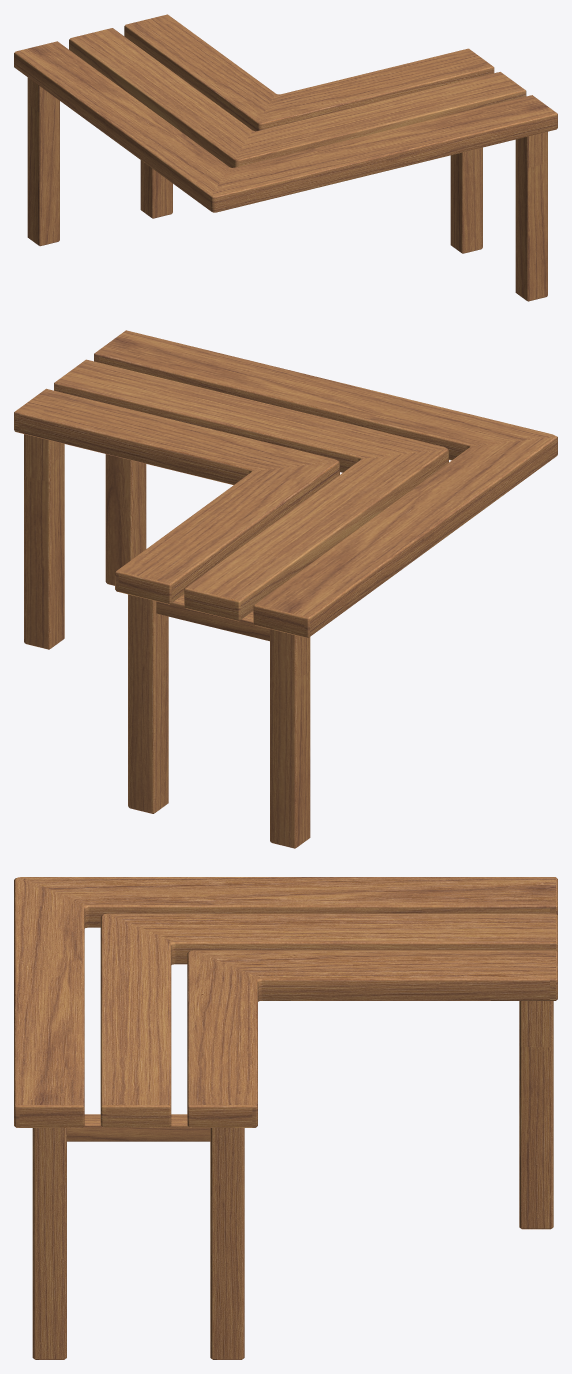
The model's file is SM_bench_04.fbx.
3 renders of one model, top to bottom at view 1: azimuth 30°, elevation 25°; view 2: azimuth 150°, elevation 25°; view 3: azimuth 270°, elevation 25°, orthographic. The views are drawn at different scales.
Visible parts, largest first — view 1: table008; view 2: table008; view 3: table008.
Boxes of the visible parts, box(x1,y1,x2,y2) form: table008: box(14, 14, 557, 301); table008: box(14, 330, 557, 848); table008: box(14, 877, 557, 1359).
Bounding box in the file's own units: 42.72 × 22.27 × 42.72.
1 material, 1 textured.
